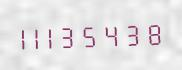eight: (143, 18, 160, 47)
five: (89, 20, 106, 49)
four: (107, 19, 124, 48)
one: (35, 21, 52, 51), (17, 22, 34, 51), (53, 21, 70, 50)
three: (71, 20, 88, 50), (125, 18, 142, 48)
